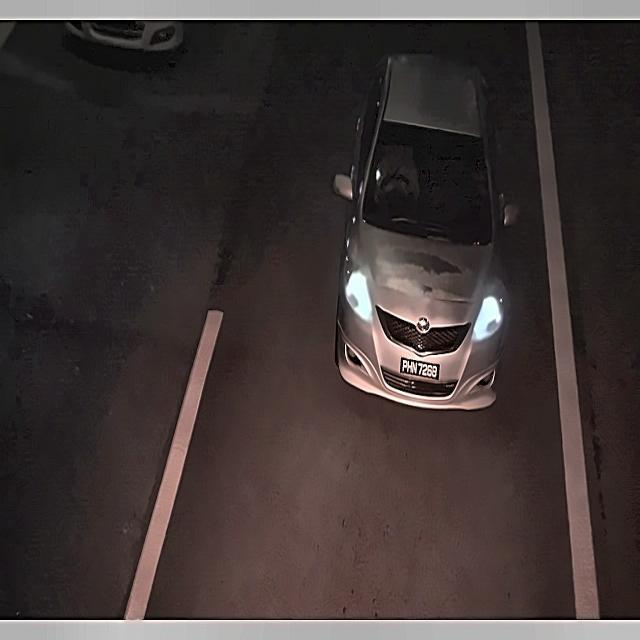car: (394, 347, 443, 387)
